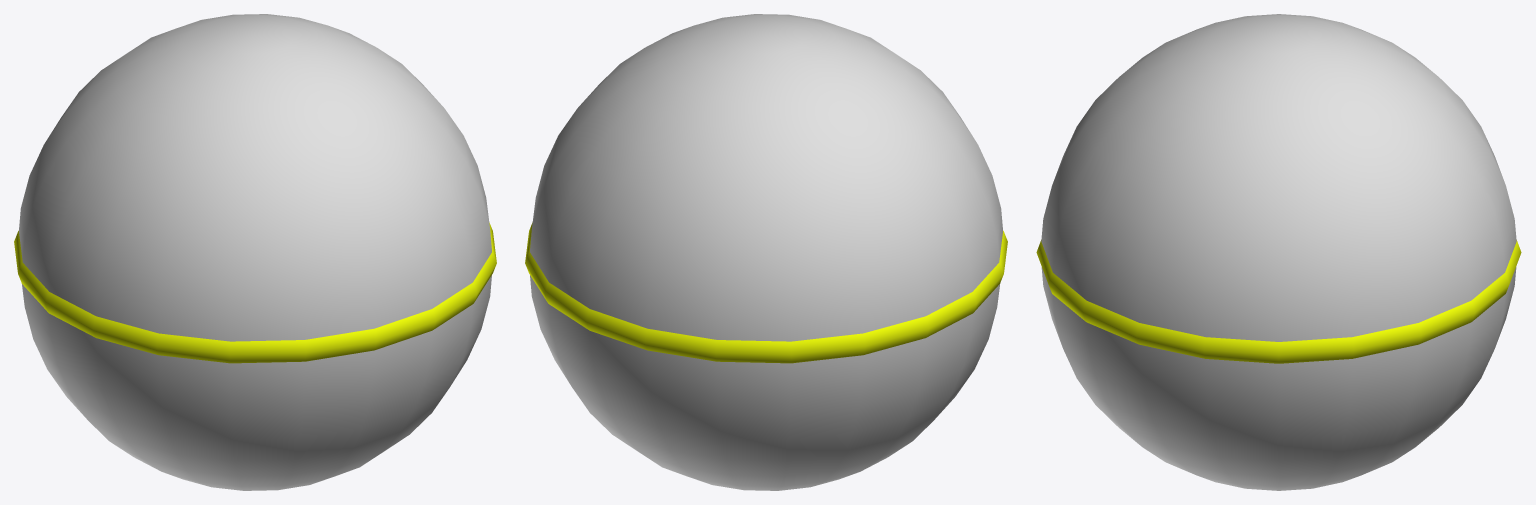
File: bol.fbx
3 renders of one model, left to right at view 1: azimuth 30°, elevation 25°; view 2: azimuth 150°, elevation 25°; view 3: azimuth 270°, elevation 25°, orthographic.
Parts seen in each view (by area): view 1: polySurface2; view 2: polySurface2; view 3: polySurface2.
Part boxes in pixels (bbox=[...]): polySurface2: bbox=[14, 14, 496, 490]; polySurface2: bbox=[525, 14, 1007, 490]; polySurface2: bbox=[1036, 14, 1521, 490].
Size of the model in its own units: 2.03 by 2 by 2.03.
